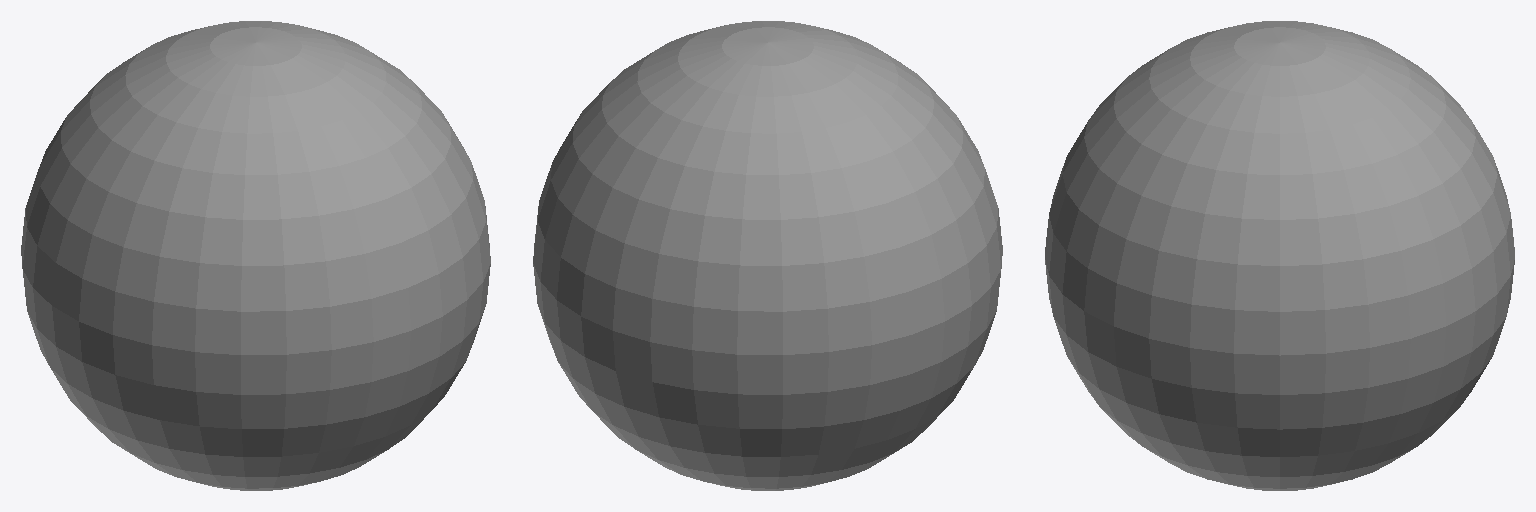
File: saturn.obj
3 views of the same model, side by side, from view 1: azimuth 30°, elevation 25°; view 2: azimuth 150°, elevation 25°; view 3: azimuth 270°, elevation 25° (orthographic).
Visible parts, largest first — view 1: Sphere; view 2: Sphere; view 3: Sphere.
Boxes of the visible parts, x1,y1,x2,y2 form: Sphere: [21, 21, 490, 490]; Sphere: [533, 21, 1002, 490]; Sphere: [1045, 21, 1514, 490].
Size of the model in its own units: 116 by 116 by 116.